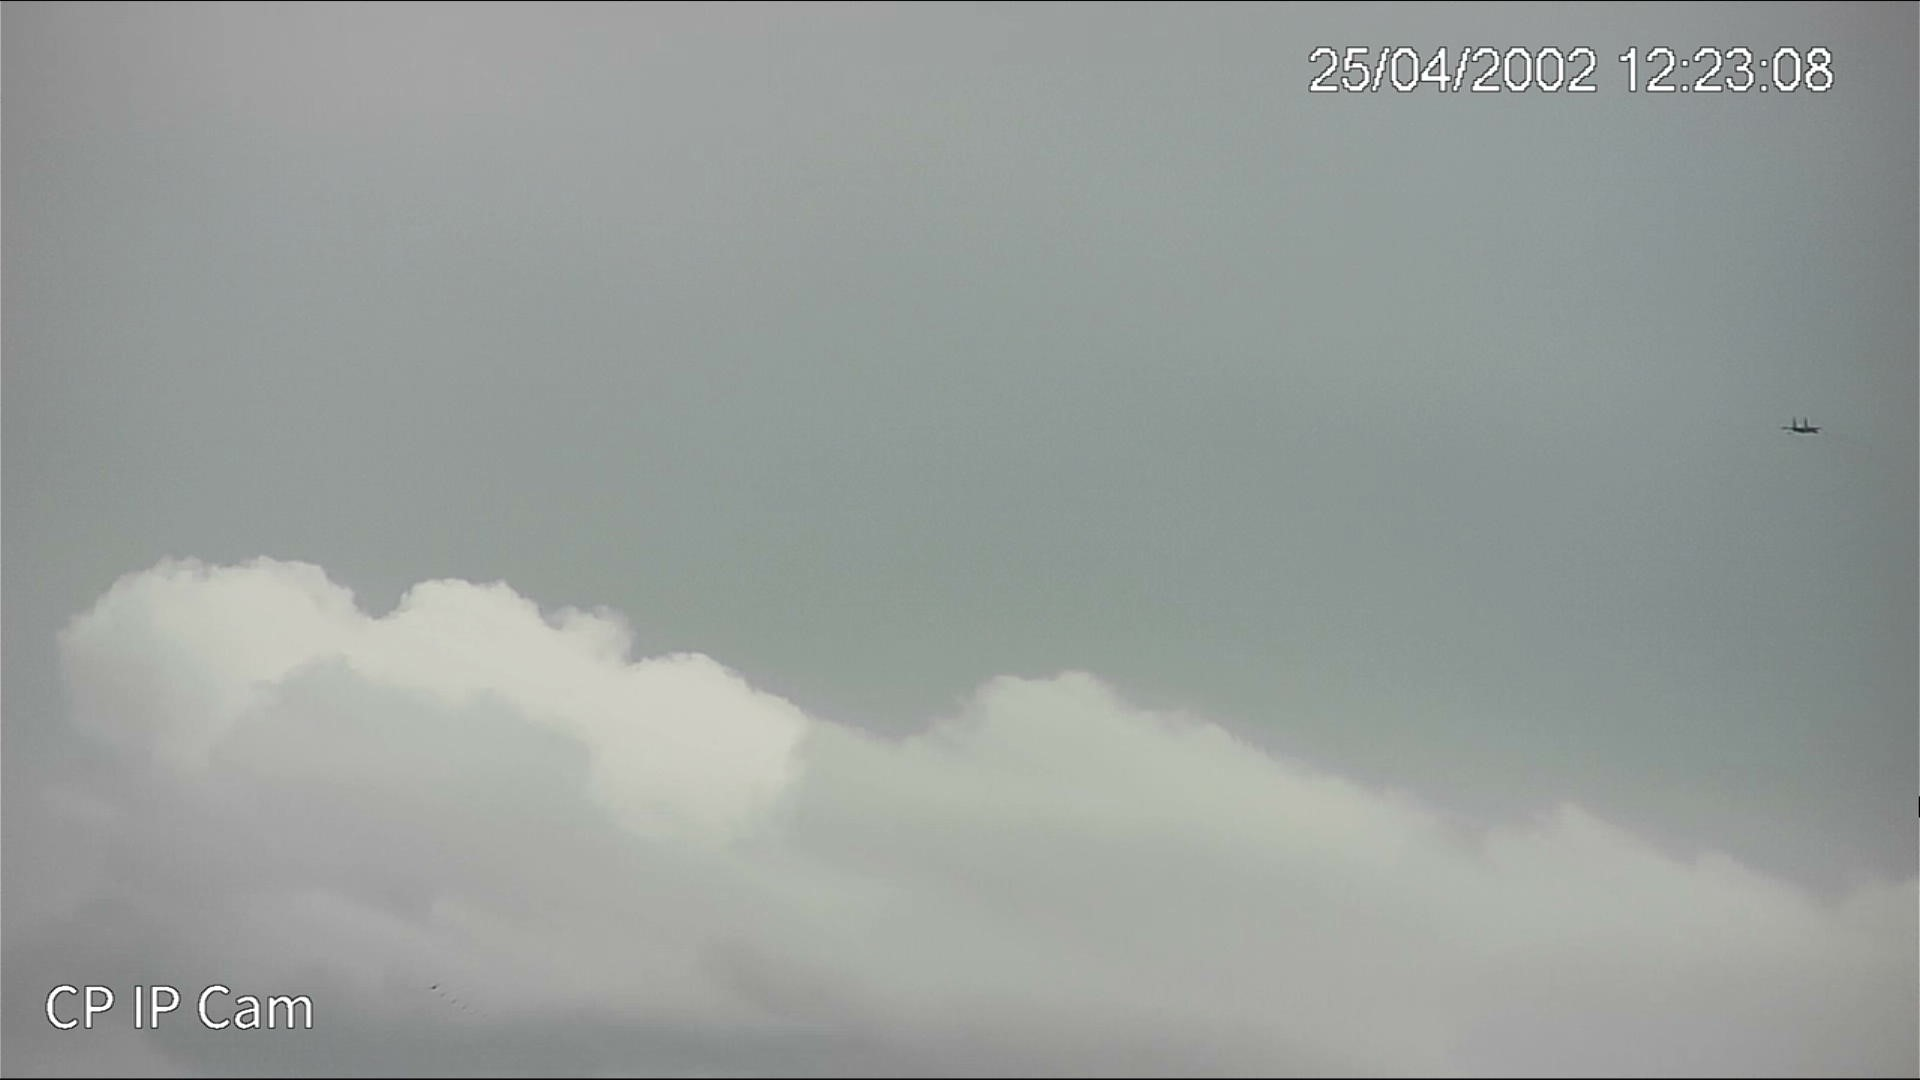SU_30: (1779, 415, 1826, 436)
